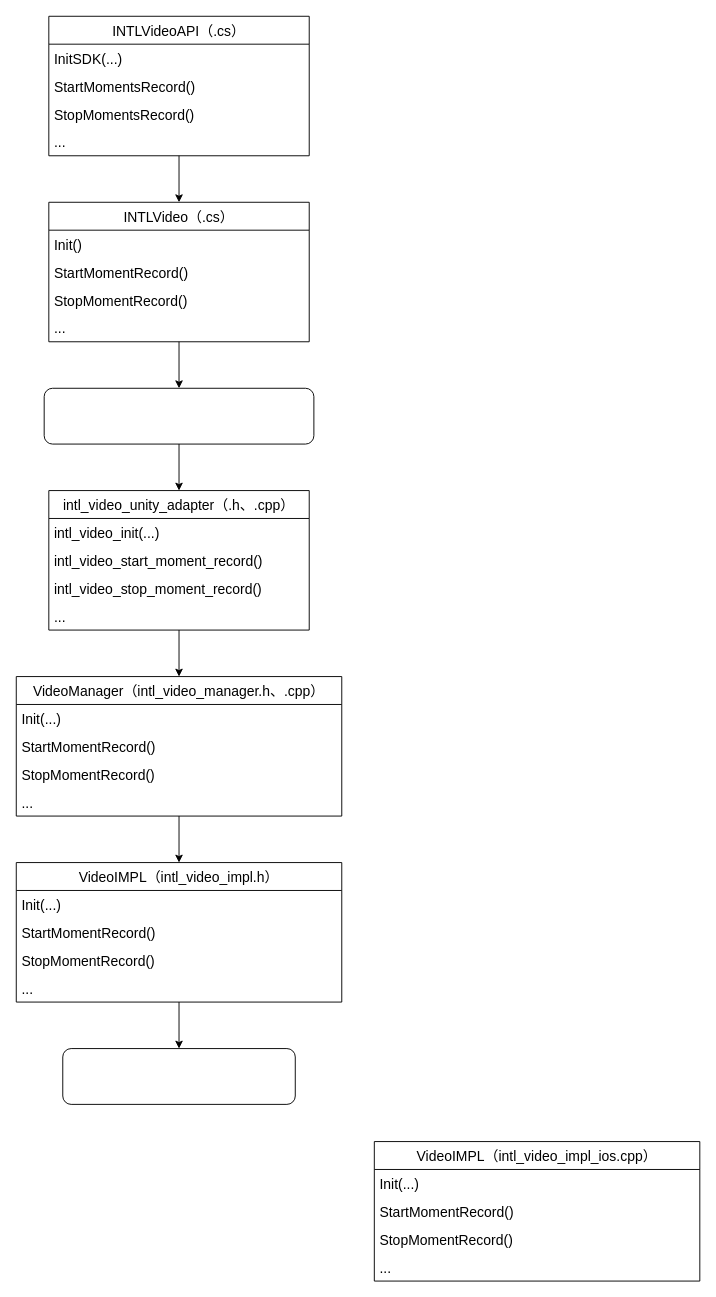
The diagram is 716 pixels wide and 1297 high, and some of its shapes have lost their labels. Here are the shapes that lost their labels. From the top down, the centre of each, then its label:
At (x=178, y=415): "C#调用C++ adapter接口， 比如： StartMomentRecord()就是调用 intl_video_start_moment_record()".
At (x=178, y=1076): "定义好接口，不同平台有不同的实现，比如编译iOS时，就回编译intl_video_impl_ios.cpp".
